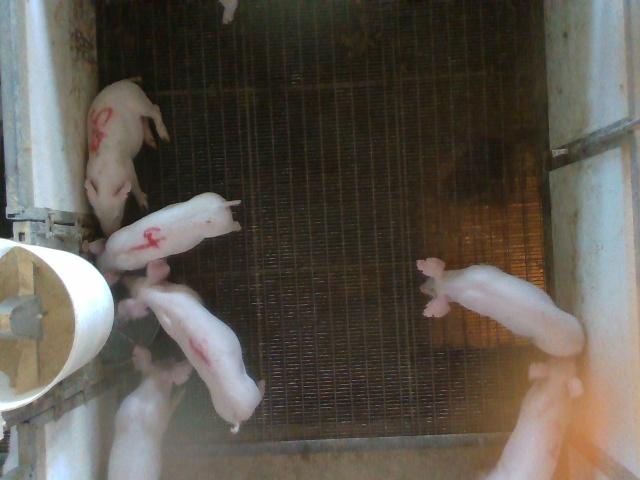pig-1: (119, 259, 264, 431)
pig-2: (488, 358, 582, 479)
pig-4: (99, 192, 241, 274)
pig-5: (85, 80, 169, 236)
